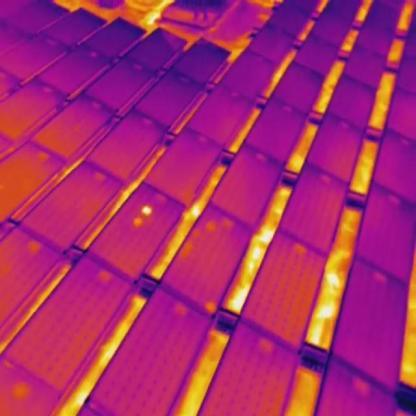anomaly: (136, 203, 158, 222)
